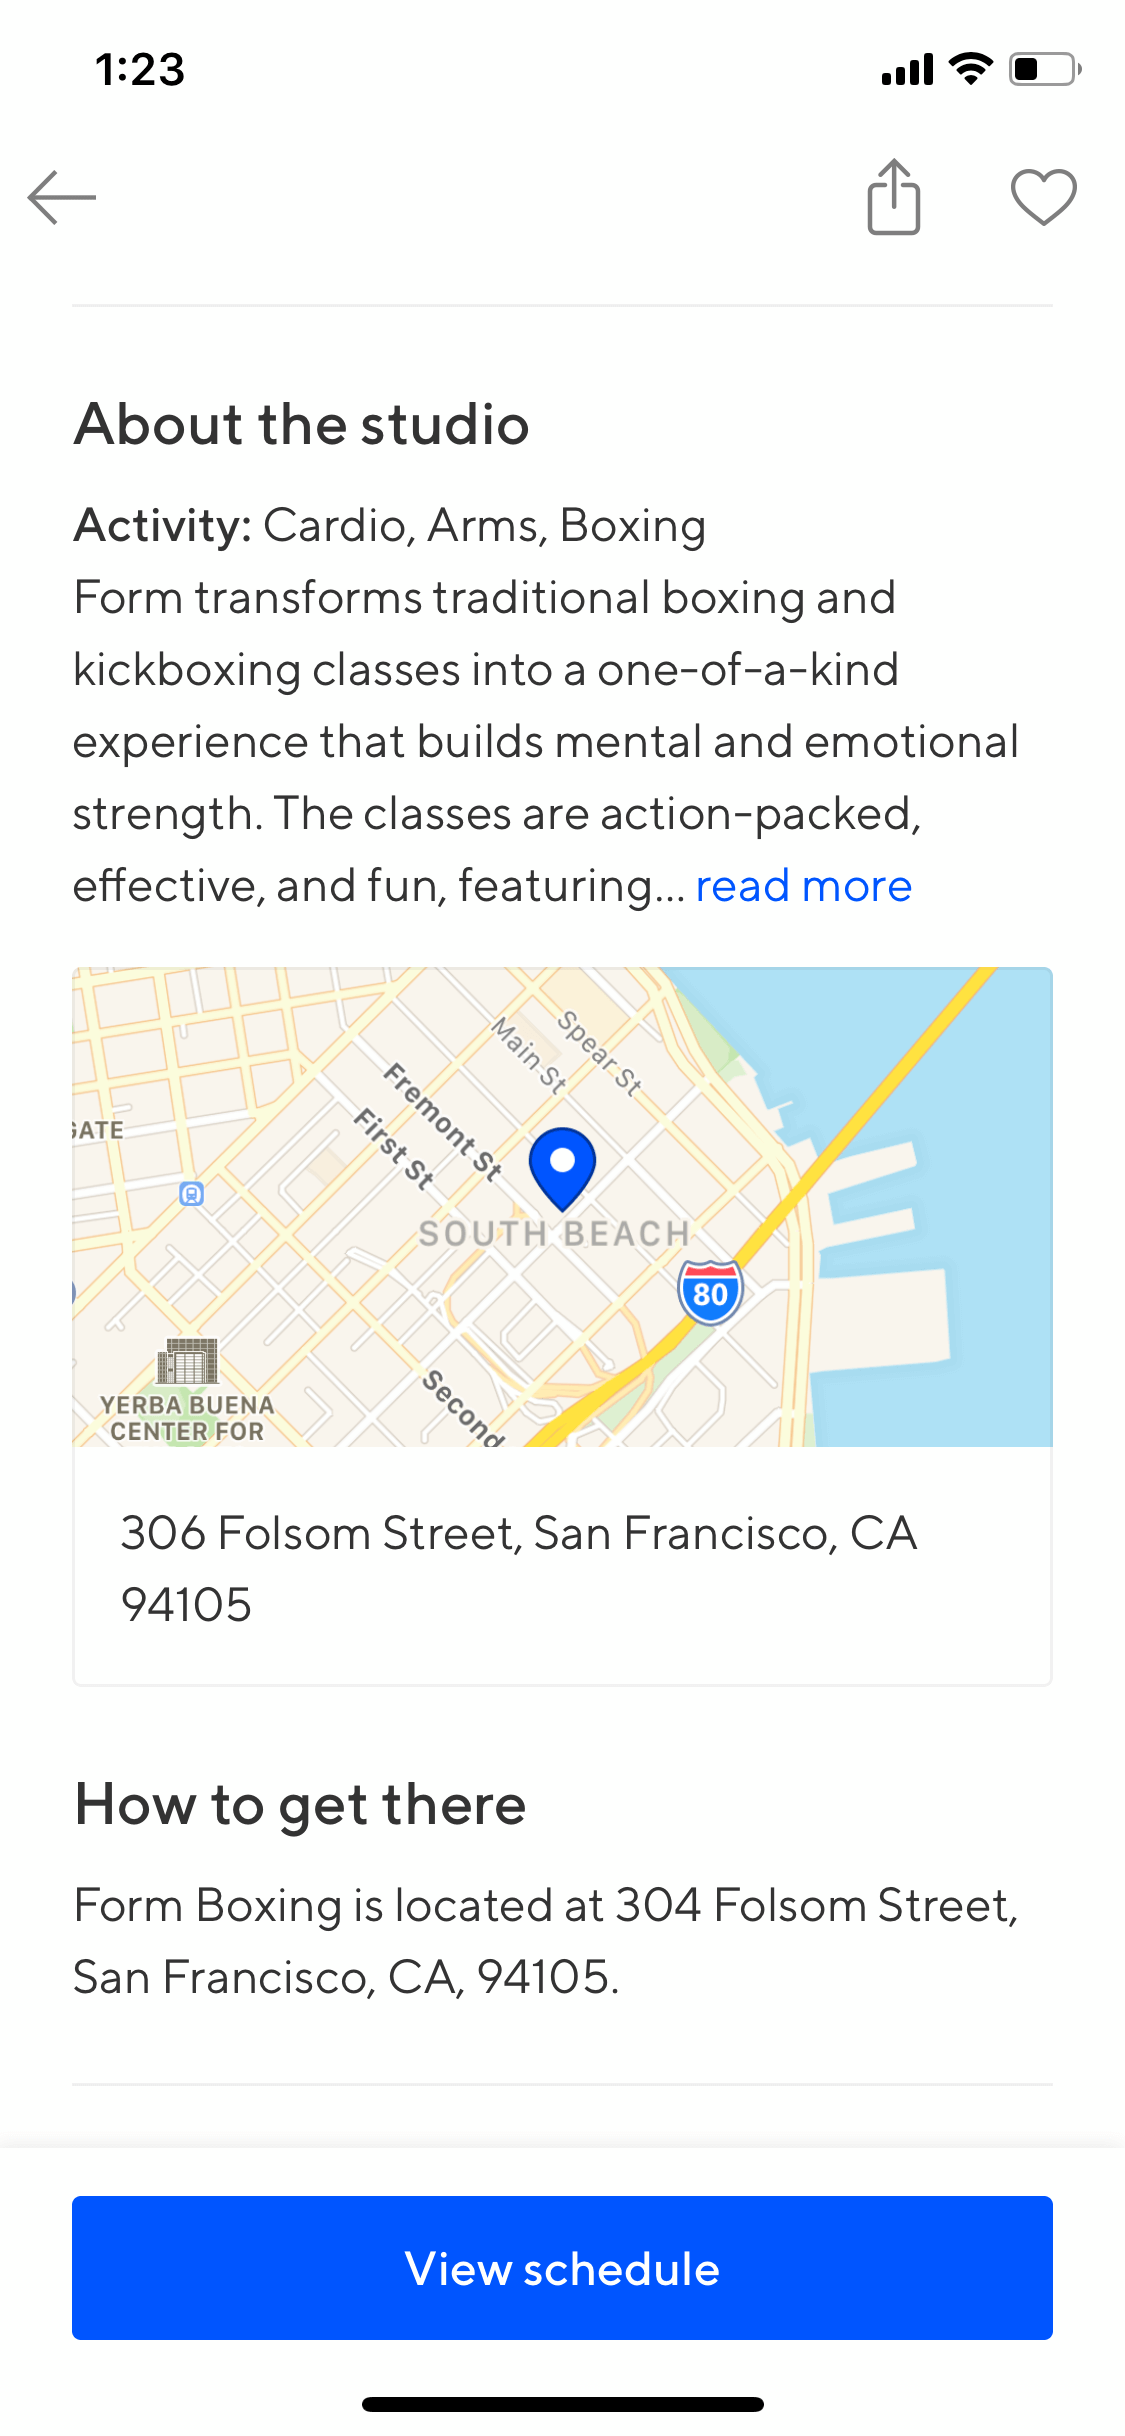Buttons: (57, 2184, 1058, 2351), (822, 129, 956, 259), (976, 124, 1099, 256), (8, 129, 129, 256)
